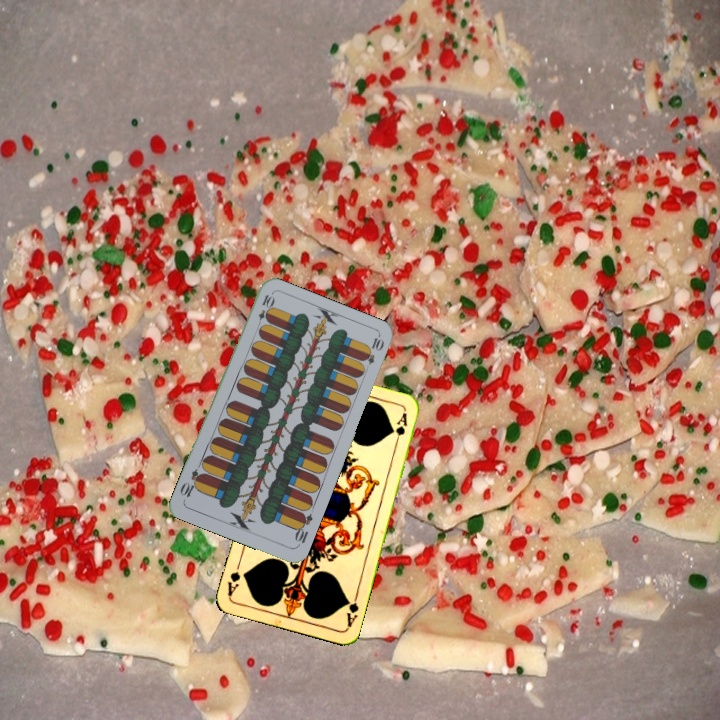E10: (290, 509, 315, 549), (253, 291, 275, 331)
GA: (342, 590, 361, 630)
